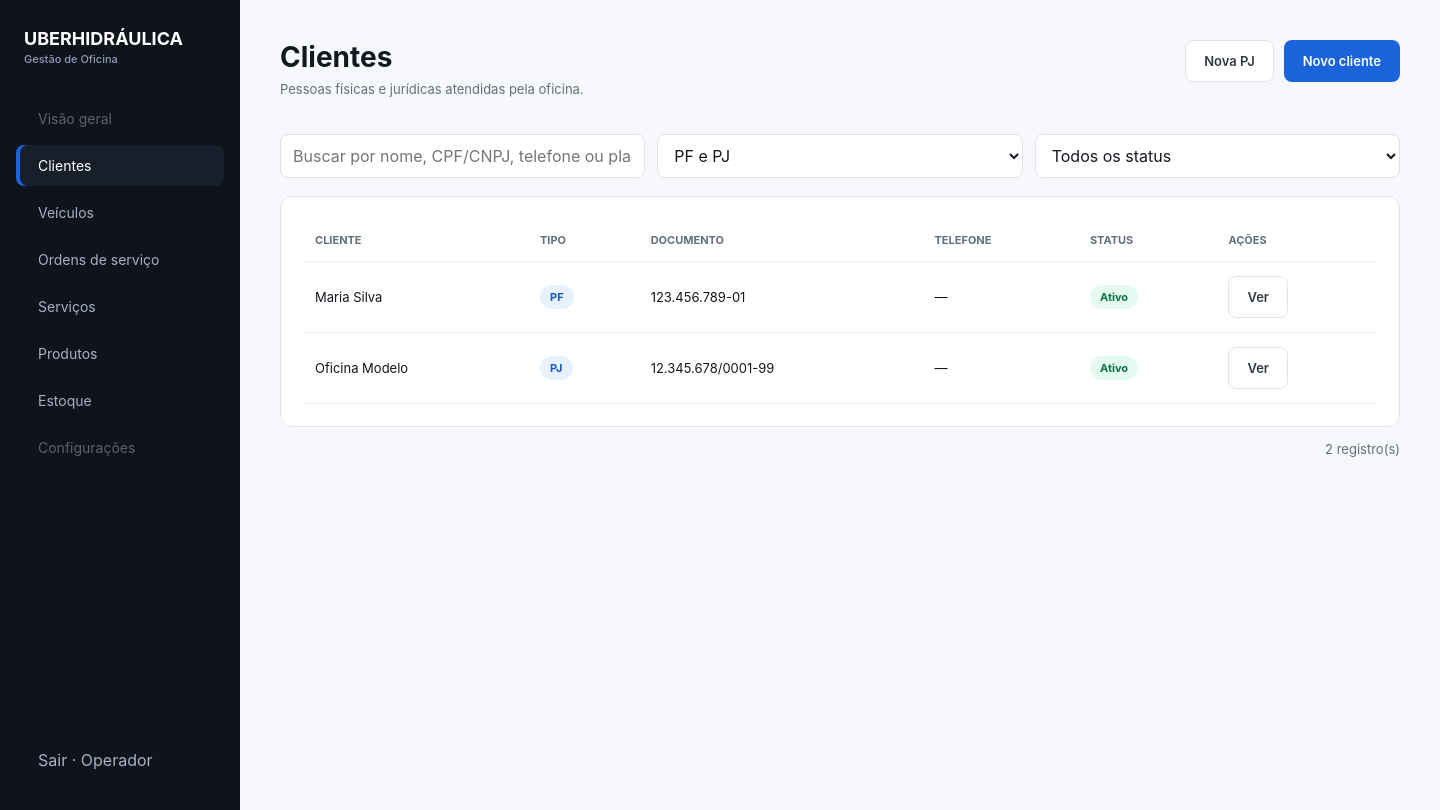
it: REV-FE-001 busca mArIa pela interface
The image size is (1440, 810).
Expected: the cell "Maria Silva" is shown, top-left (303, 262), bottom-right (528, 332)
Step 1. Type "temporário" into the field named "Buscar clientes" → (463, 156), box top-left (280, 134), bottom-right (645, 178)
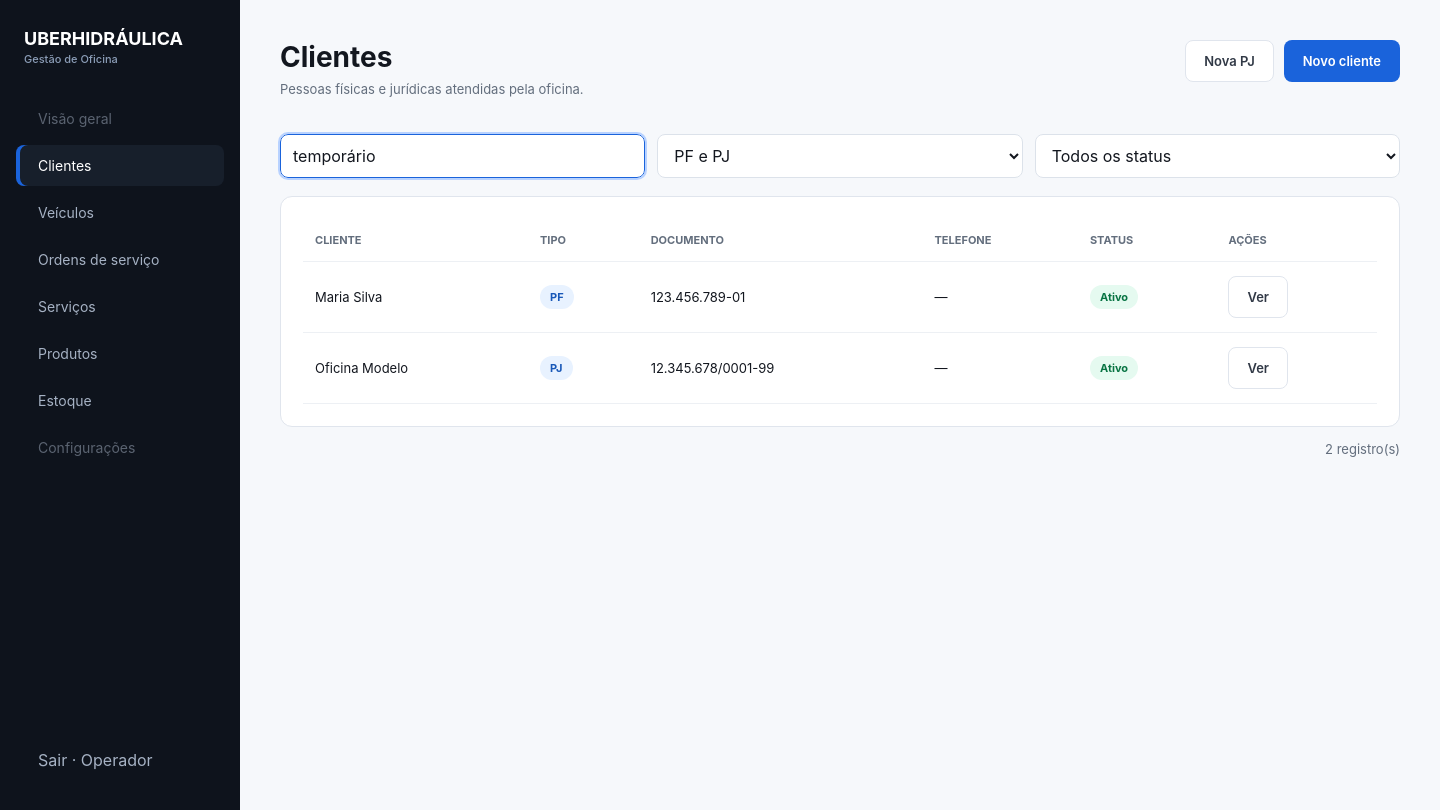
Step 2. Replace the text in the field named "Buscar clientes" with "mArIa" → (463, 156), box top-left (280, 134), bottom-right (645, 178)
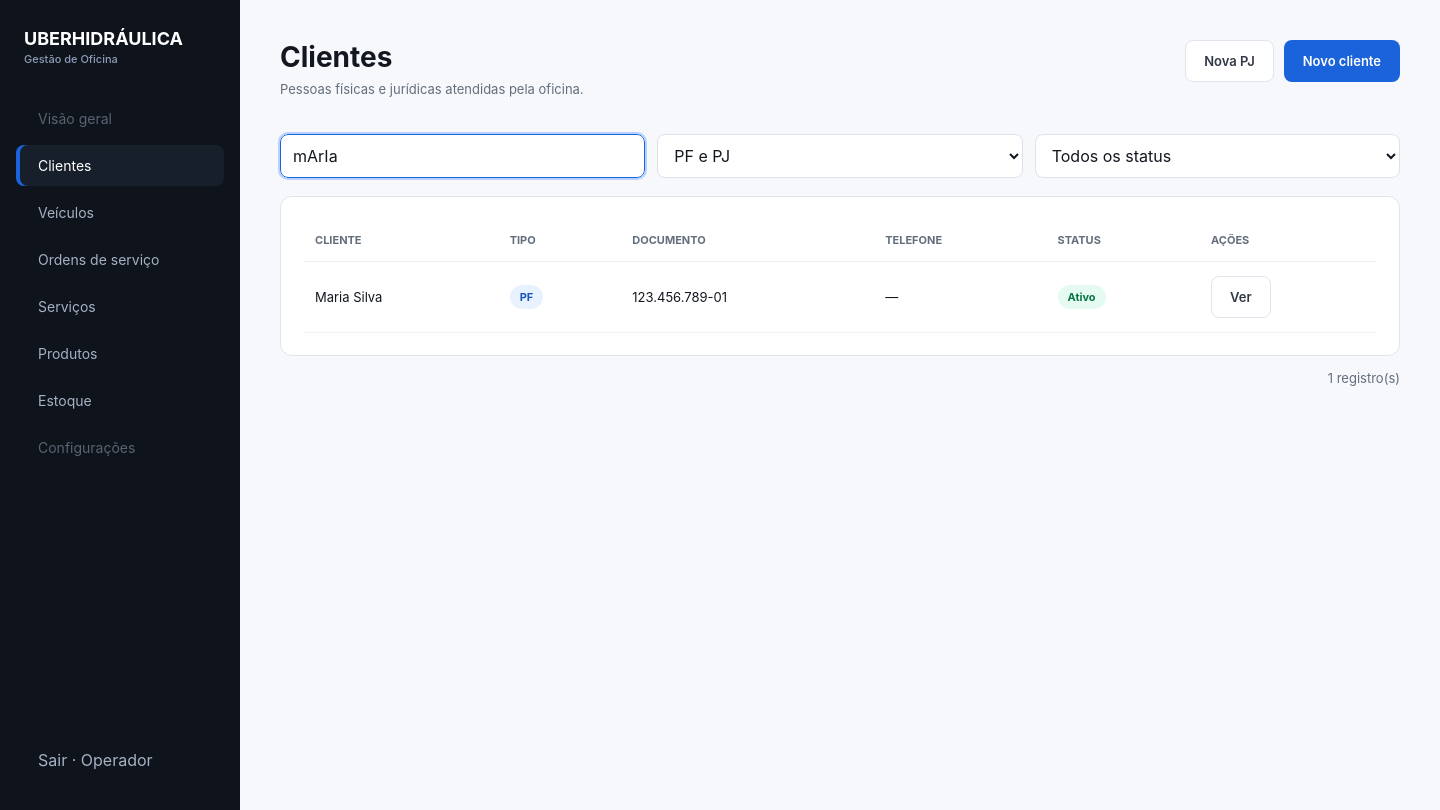
Expected: the cell "Maria Silva" is shown, top-left (303, 262), bottom-right (498, 332)
Result: the cell "Oficina Modelo" is gone
